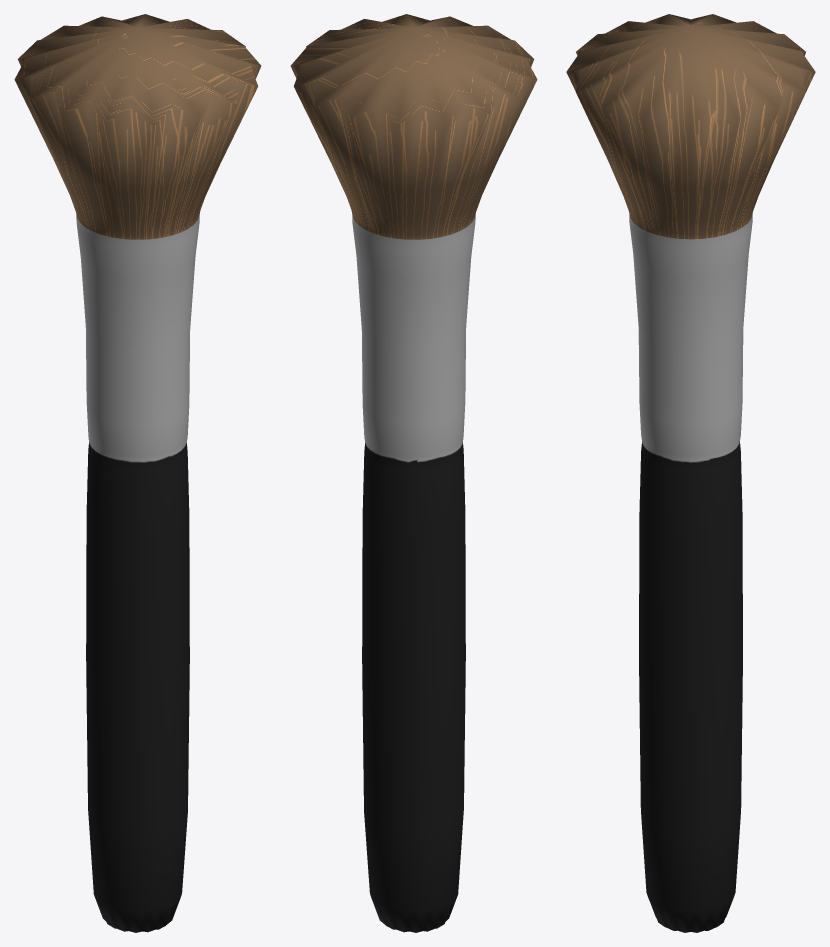
File: bigbrush.fbx
3 renders of one model, left to right at view 1: azimuth 30°, elevation 25°; view 2: azimuth 150°, elevation 25°; view 3: azimuth 270°, elevation 25°, orthographic.
Parts seen in each view (by area): view 1: Cylinder.011; view 2: Cylinder.011; view 3: Cylinder.011.
Boxes of the visible parts, box(x1,y1,x2,y2) form: Cylinder.011: box(14, 14, 261, 932); Cylinder.011: box(290, 14, 537, 932); Cylinder.011: box(566, 14, 815, 932).
Bounding box in the file's own units: 56.94 × 227 × 56.94.
